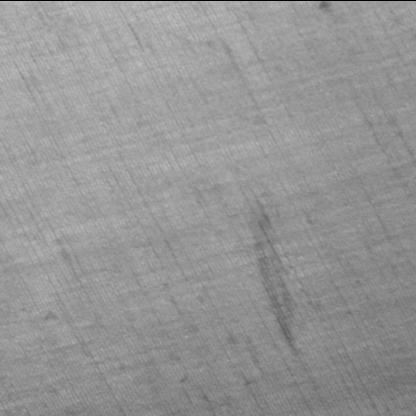oil spot: (245, 206, 302, 354)
